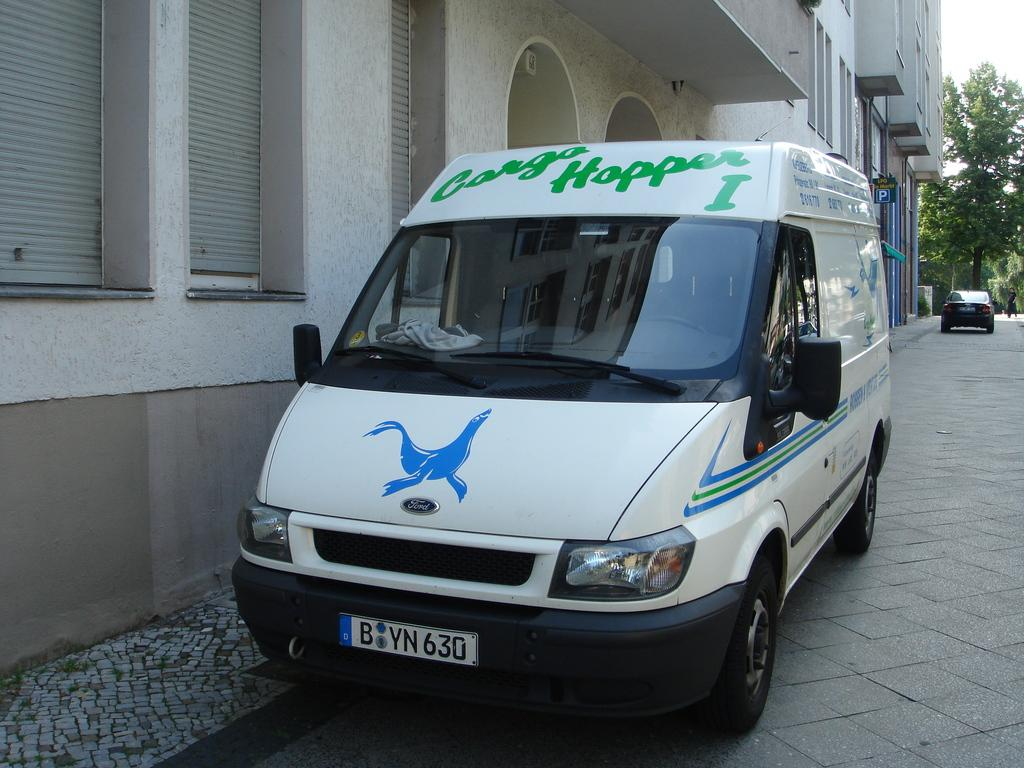vehicle: (233, 140, 893, 736), (942, 289, 996, 334)
